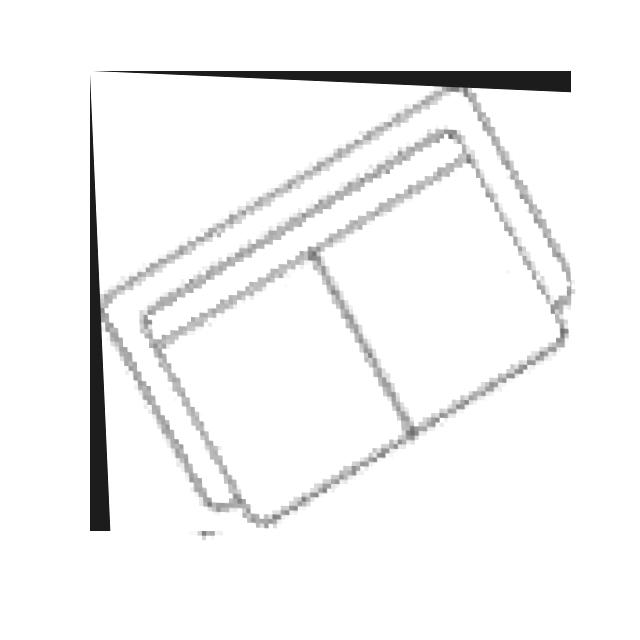sofa: (90, 71, 571, 531)
